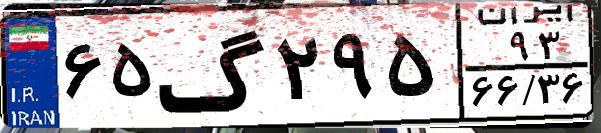2: (270, 28, 330, 110)
3: (537, 27, 568, 80), (535, 70, 560, 125)
5: (385, 28, 445, 110), (110, 28, 156, 98)
6: (57, 26, 110, 100), (560, 70, 590, 125), (470, 70, 495, 125), (495, 70, 520, 125)
9: (330, 28, 385, 110), (508, 27, 537, 80)
گ: (156, 12, 270, 120)
